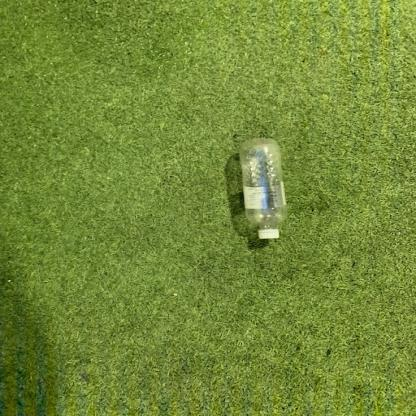trash: (239, 138, 289, 241)
